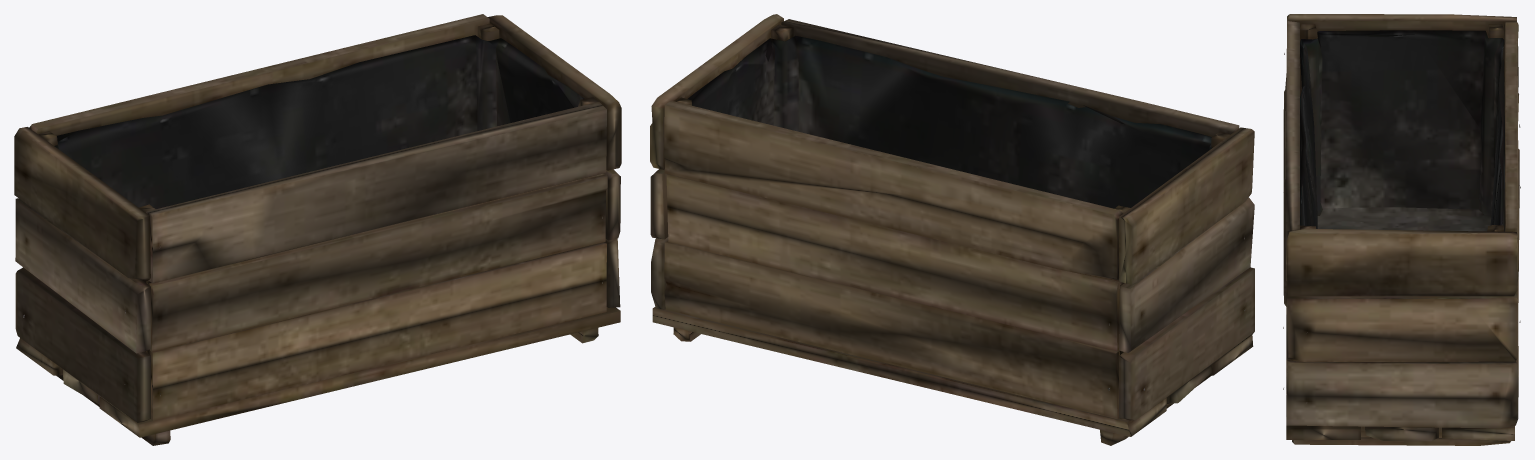
Rendered from planter_box_01.glb.
The picture shows the model from 3 angles, left to right: view 1: azimuth 30°, elevation 25°; view 2: azimuth 150°, elevation 25°; view 3: azimuth 270°, elevation 25°; orthographic projection. The views are drawn at different scales.
Visible parts, largest first — view 1: planter_box_01; view 2: planter_box_01; view 3: planter_box_01.
Part boxes in pixels (x1,y1,x2,y2): planter_box_01: [14, 14, 621, 445]; planter_box_01: [650, 14, 1254, 445]; planter_box_01: [1283, 14, 1520, 445].
Size of the model in its own units: 0.9116 by 0.425 by 0.4129.
Materials: 1 (1 with a texture image).
